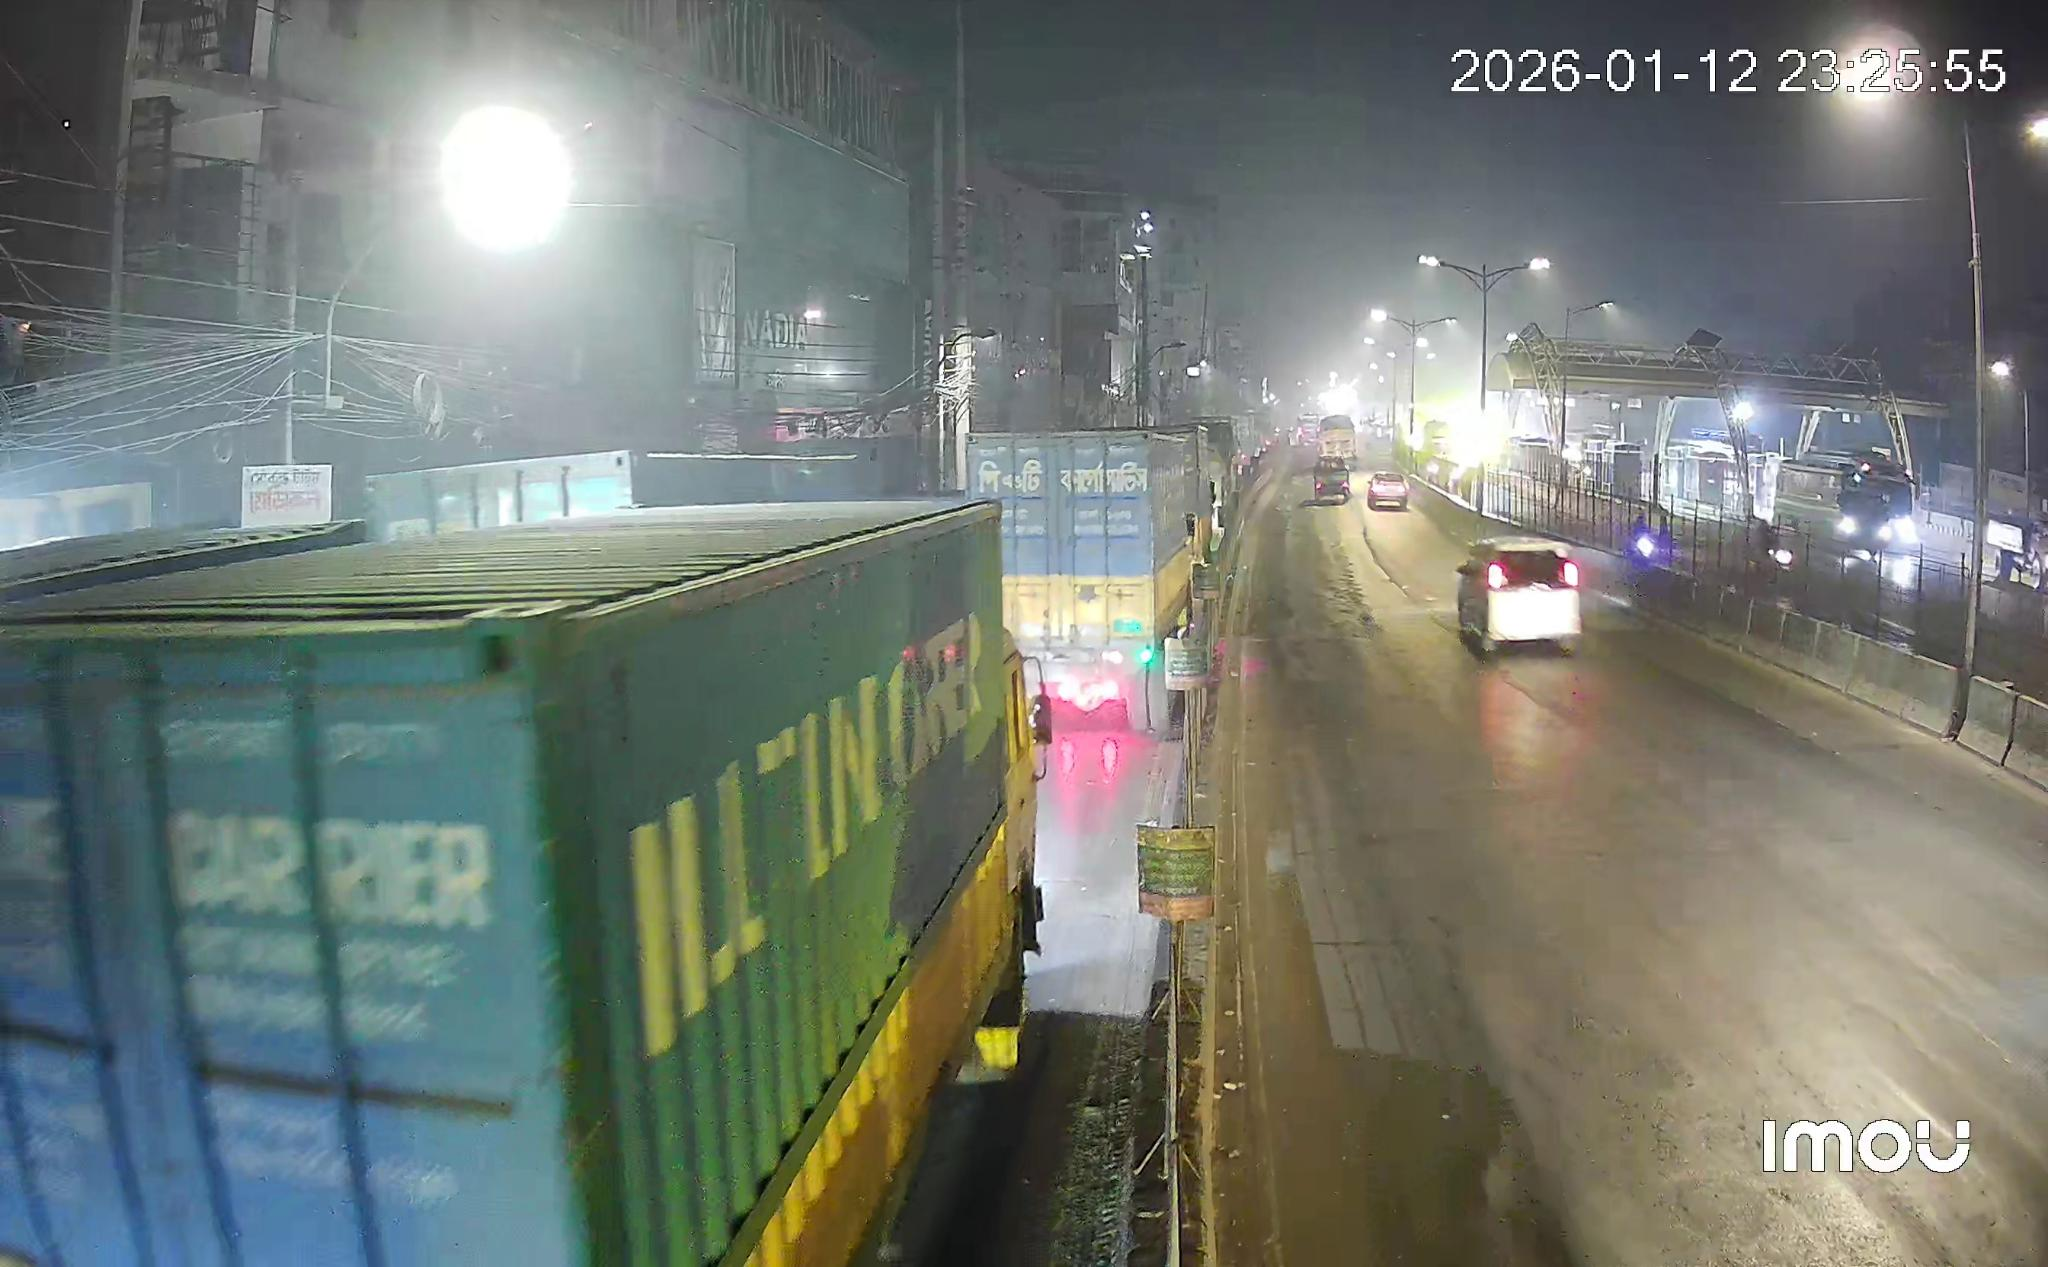Jeep-SUV: (1456, 537, 1581, 655)
Truck: (0, 502, 1050, 1267), (968, 430, 1213, 729)
